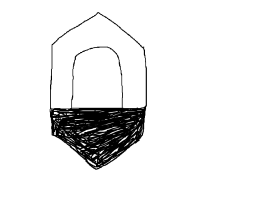door: (66, 47, 127, 108)
shadow: (43, 106, 154, 173)
single_line_roof: (47, 4, 159, 50)
wall: (47, 44, 152, 113)
